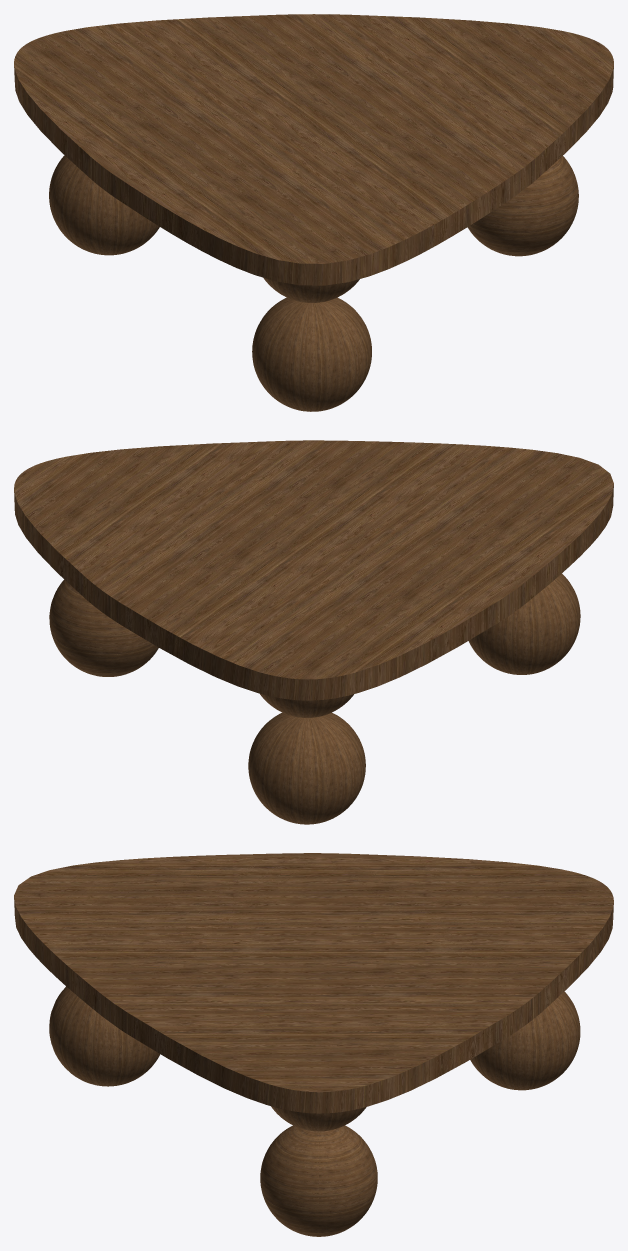
File: orbit coffee table.glb
The picture shows the model from 3 angles, top to bottom: view 1: azimuth 30°, elevation 25°; view 2: azimuth 150°, elevation 25°; view 3: azimuth 270°, elevation 25°; orthographic projection. The views are drawn at different scales.
Size of the model in its own units: 1.25 by 0.4394 by 1.33.
1 material, 1 textured.
